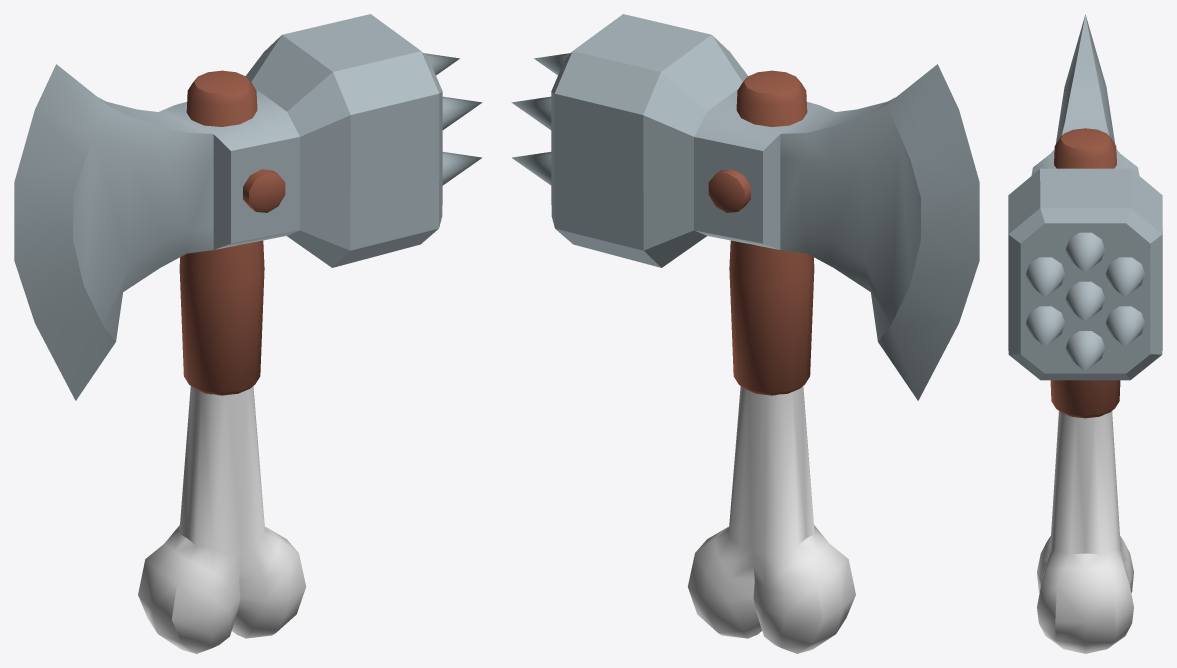
The model's file is orc_hammerAxe.gltf.glb.
The picture shows the model from 3 angles, left to right: view 1: azimuth 30°, elevation 25°; view 2: azimuth 150°, elevation 25°; view 3: azimuth 270°, elevation 25°; orthographic projection. The views are drawn at different scales.
Visible parts, largest first — view 1: orc_hammerAxe; view 2: orc_hammerAxe; view 3: orc_hammerAxe.
Boxes of the visible parts, x1=… form: orc_hammerAxe: x1=14, y1=14, x2=482, y2=653; orc_hammerAxe: x1=511, y1=14, x2=979, y2=653; orc_hammerAxe: x1=1008, y1=14, x2=1162, y2=653.
Bounding box in the file's own units: 0.7251 × 0.957 × 0.2438.
